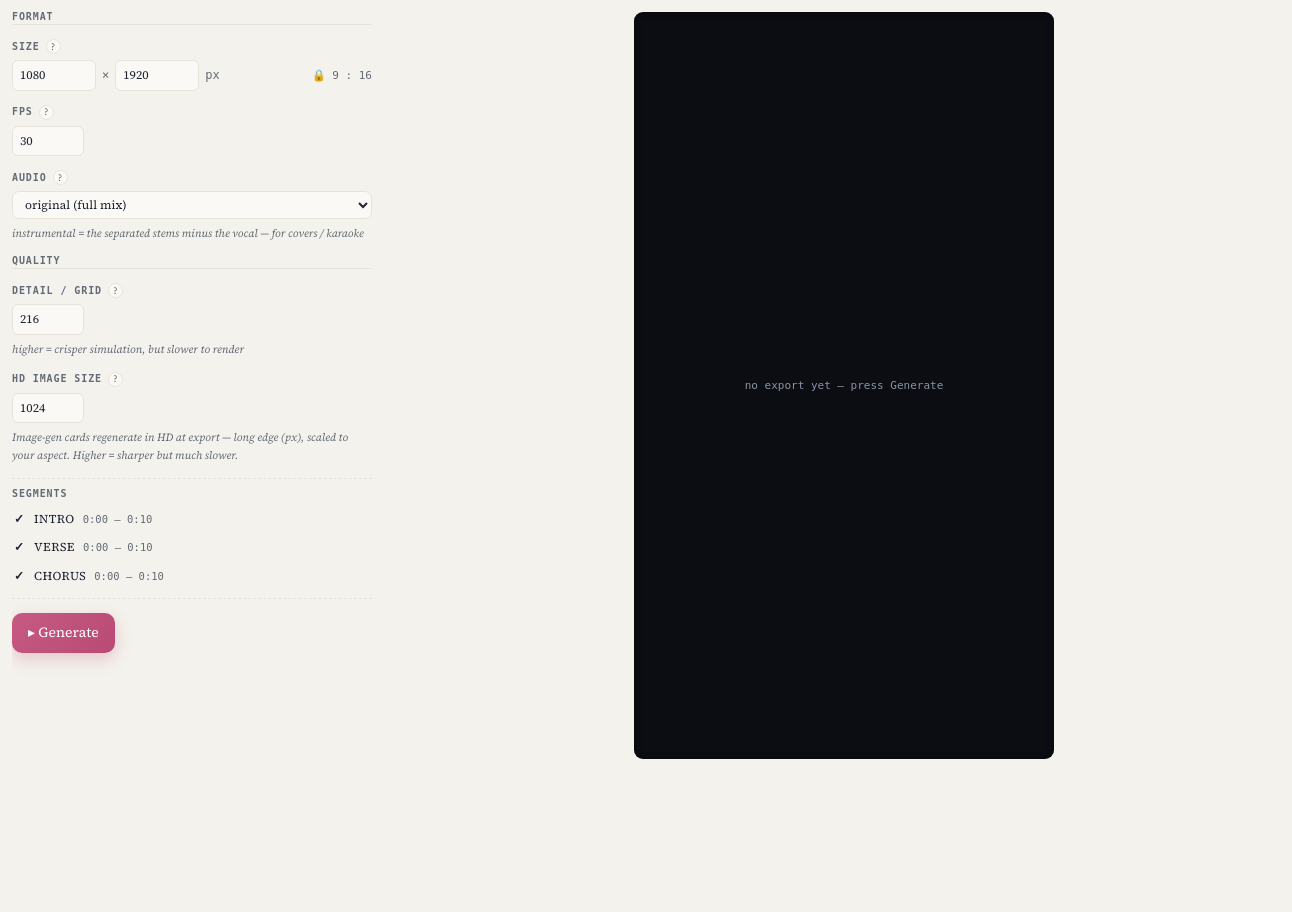
Scenario: ExportConsole progress › walks the list: done behind the active segment, pending ahead of it
Click the button "▸ Generate" at (63, 633), box [12, 613, 115, 653]
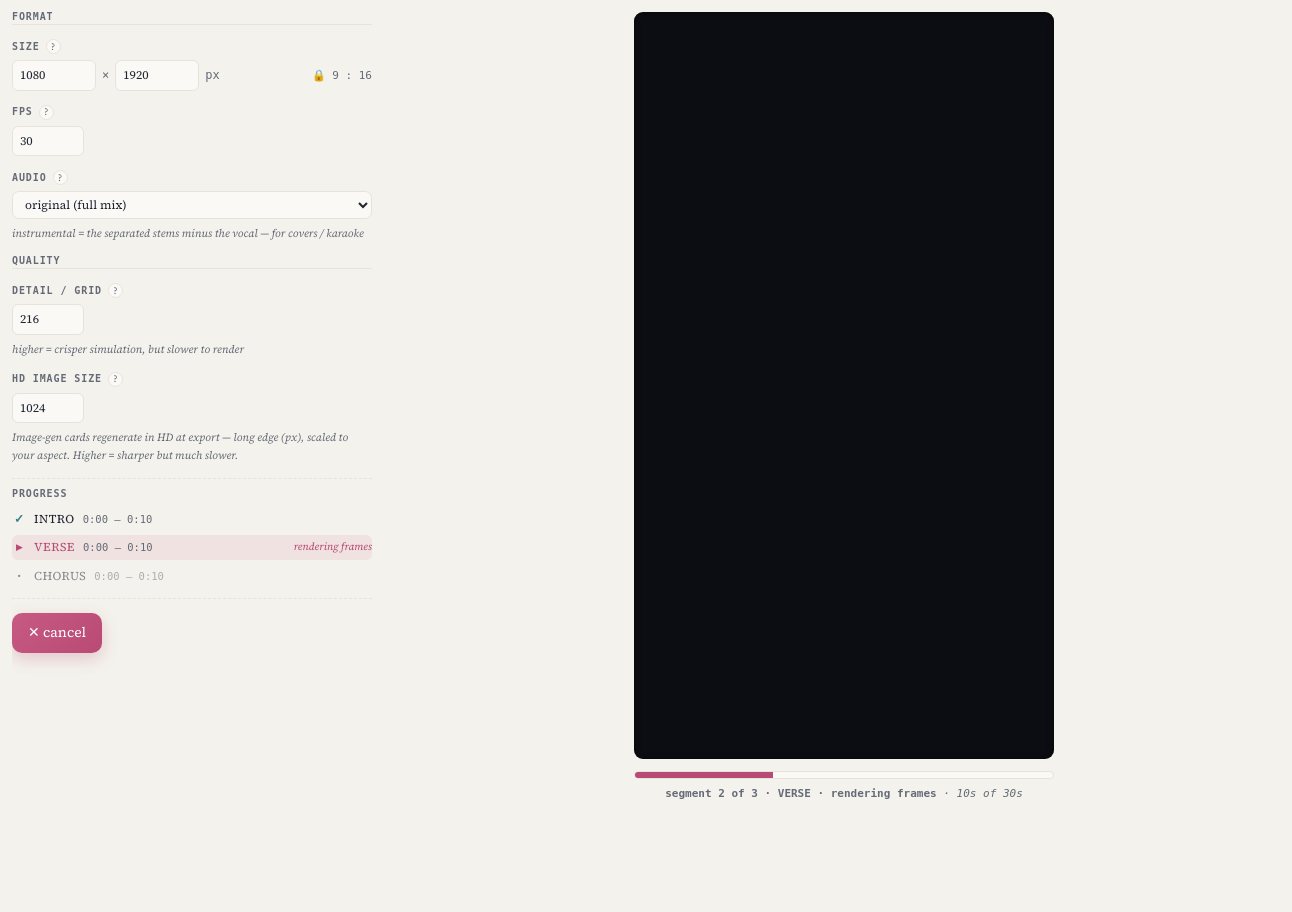
expect the element with class "st-running" is shown: met, box [12, 535, 372, 560]
